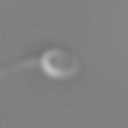normal: (1, 53, 40, 75)
